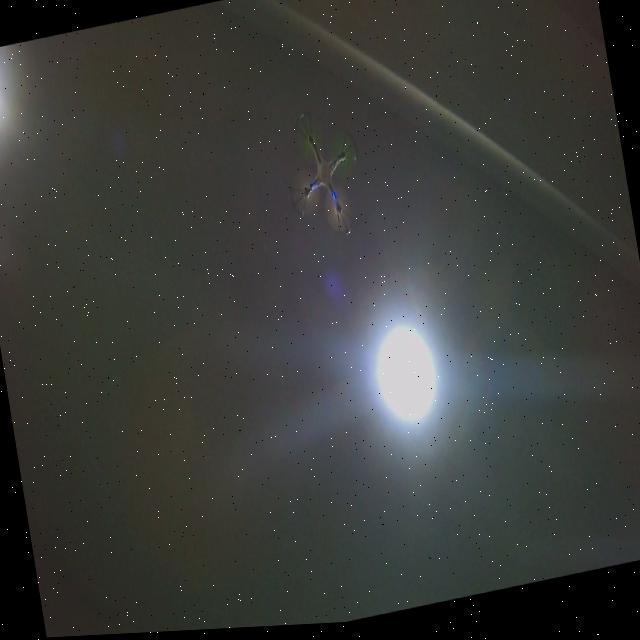drone: (276, 103, 376, 253)
